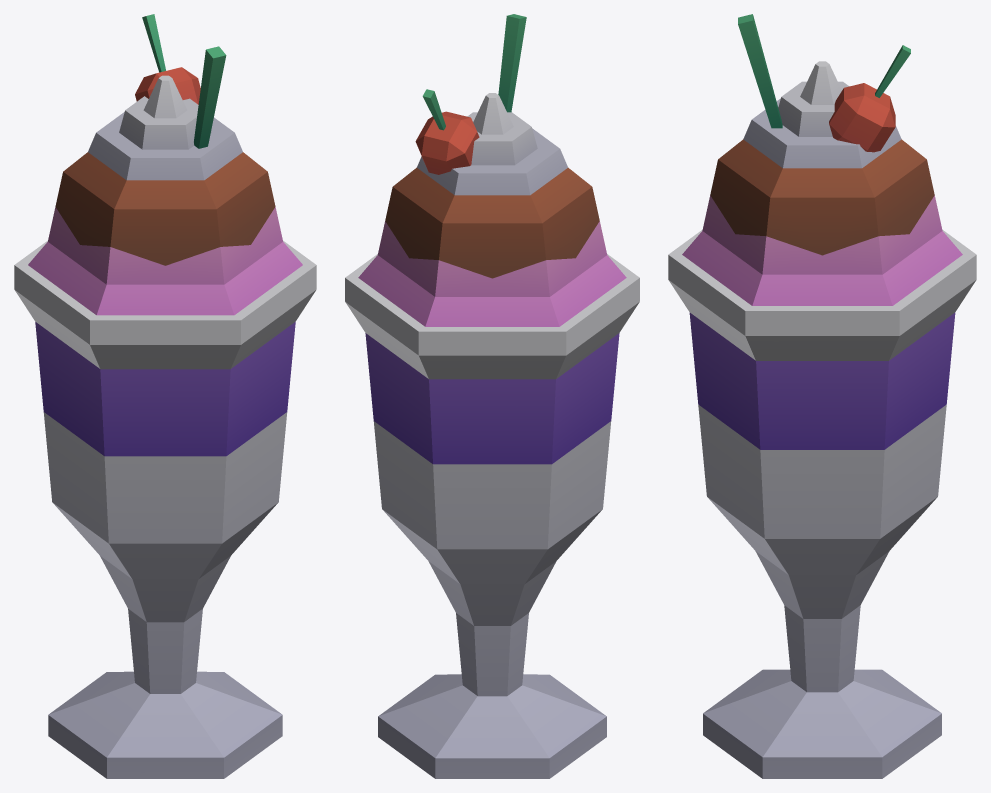
File: sundae.glb
The picture shows the model from 3 angles, left to right: view 1: azimuth 30°, elevation 25°; view 2: azimuth 150°, elevation 25°; view 3: azimuth 270°, elevation 25°; orthographic projection. The views are drawn at different scales.
Parts seen in each view (by area): view 1: geometry_0; view 2: geometry_0; view 3: geometry_0.
Boxes of the visible parts, x1,y1,x2,y2 form: geometry_0: (14, 14, 316, 778); geometry_0: (345, 14, 639, 778); geometry_0: (668, 14, 976, 778).
Size of the model in its own units: 0.2774 by 0.83 by 0.3203.
